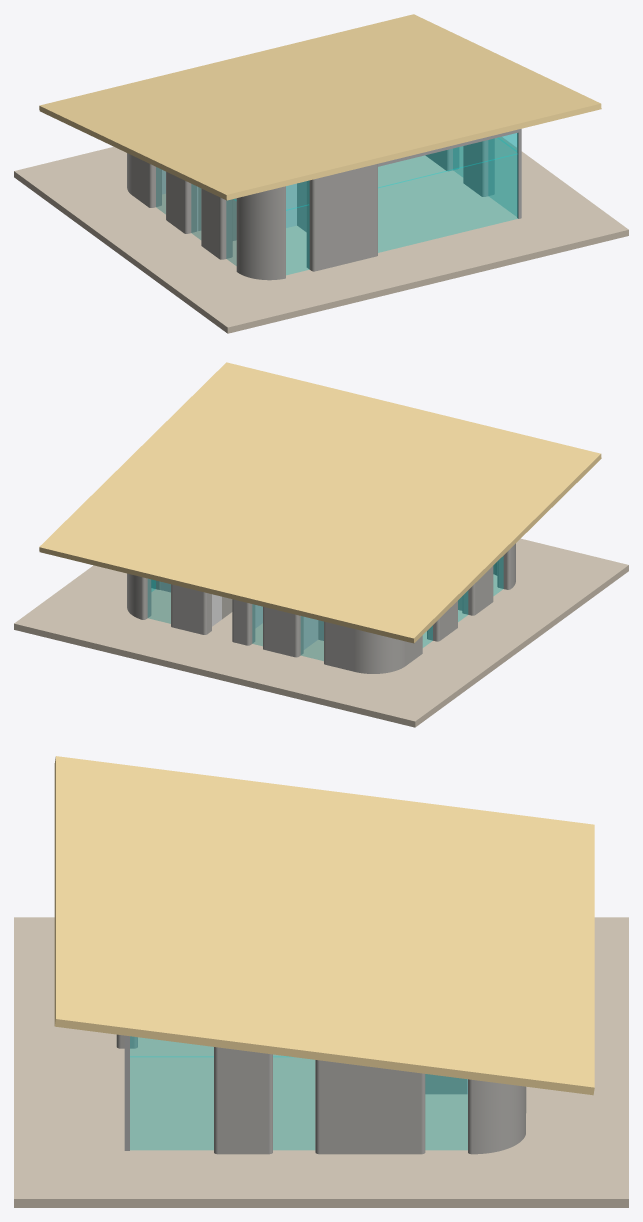
Rendered from final_house.glb.
3 views of the same model, one above another, from view 1: azimuth 30°, elevation 25°; view 2: azimuth 150°, elevation 25°; view 3: azimuth 270°, elevation 25° (orthographic). The views are drawn at different scales.
Visible parts, largest first — view 1: no_transformations; view 2: no_transformations; view 3: no_transformations.
Boxes of the visible parts, x1,y1,x2,y2 form: no_transformations: (14, 14, 628, 333); no_transformations: (14, 362, 628, 727); no_transformations: (14, 756, 628, 1207).
Bounding box in the file's own units: 15600 × 4641 × 14400.
